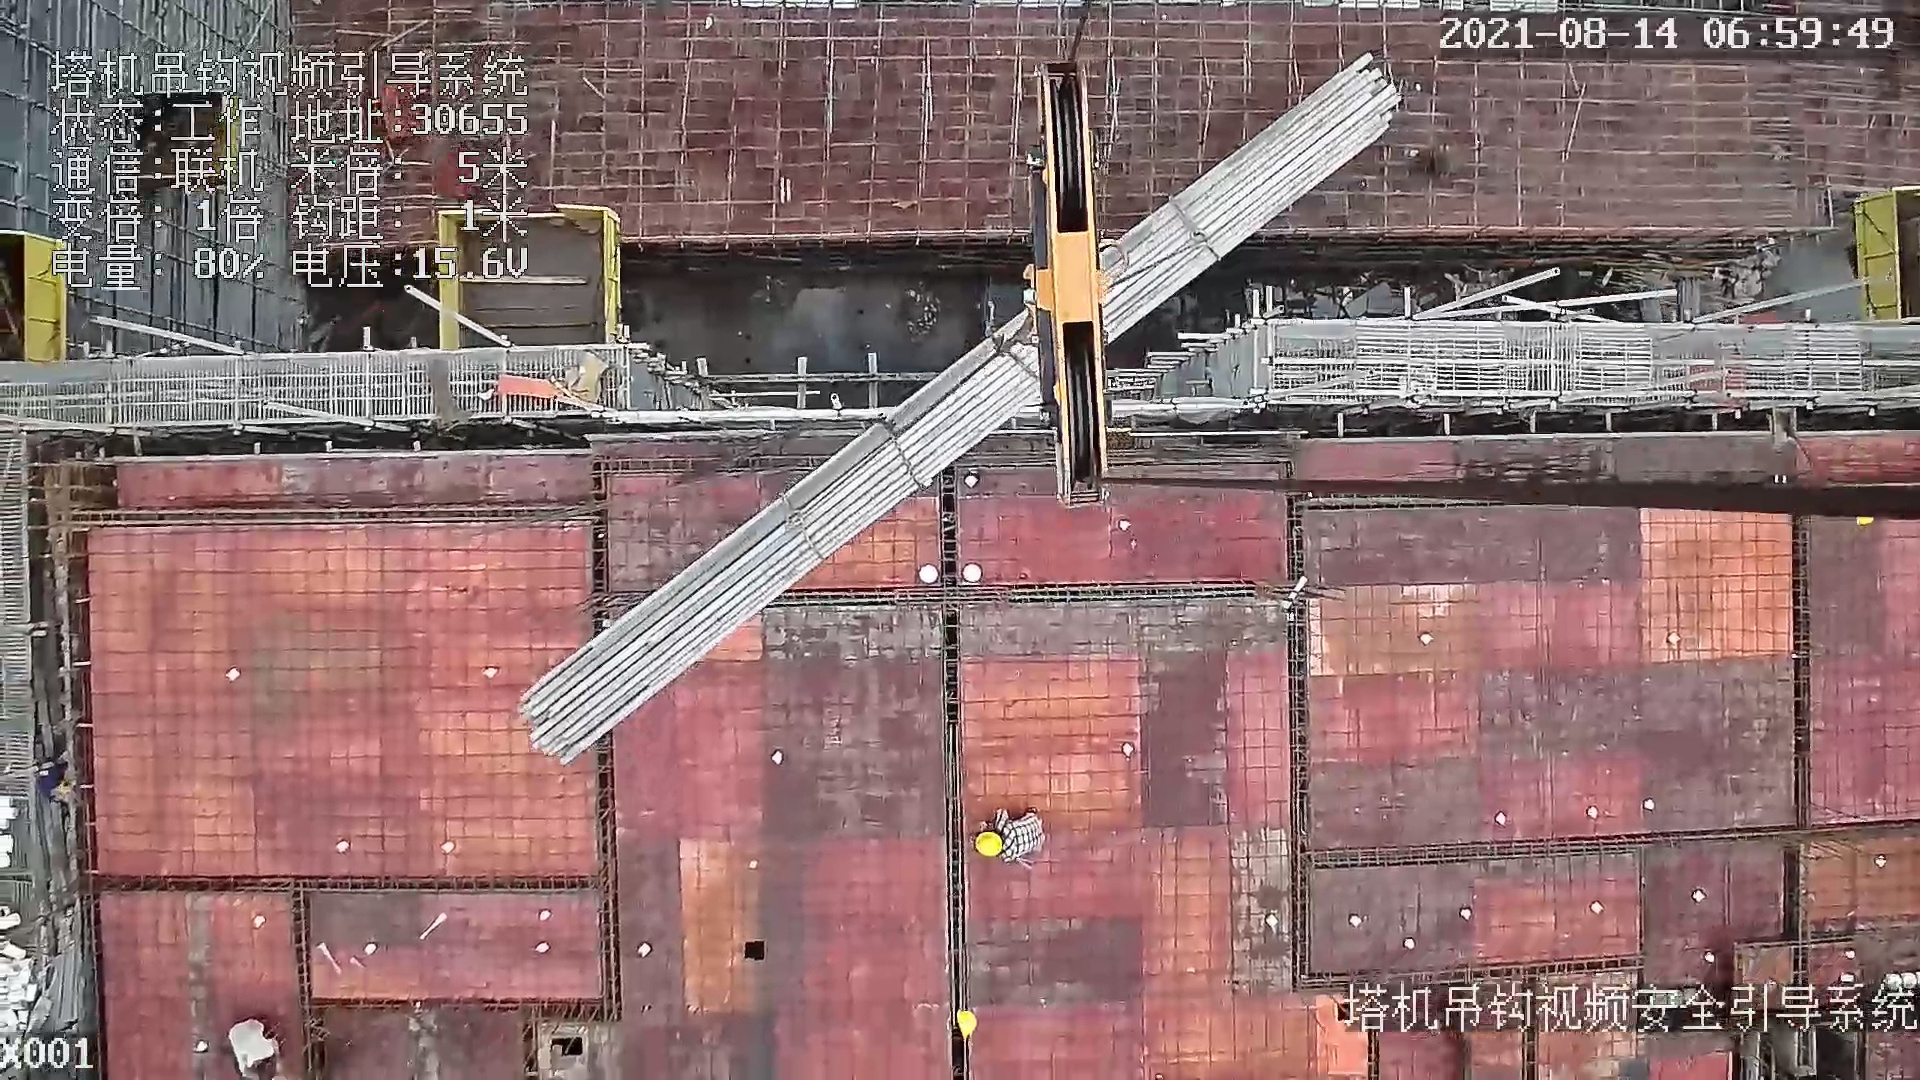helmet: (975, 832, 1003, 856), (956, 1011, 977, 1037)
hook: (1015, 53, 1126, 508)
person: (972, 808, 1046, 867), (225, 1019, 279, 1080)
rebar: (513, 53, 1404, 761)
